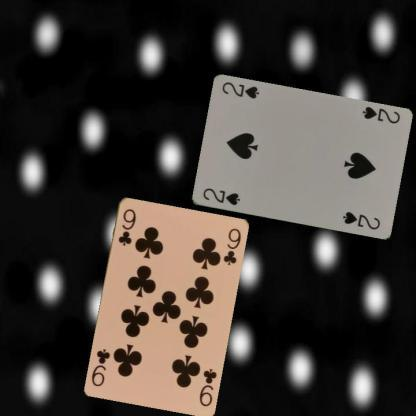2s: (200, 185, 241, 207), (359, 104, 401, 125)
9c: (115, 206, 137, 248), (196, 365, 218, 407)
